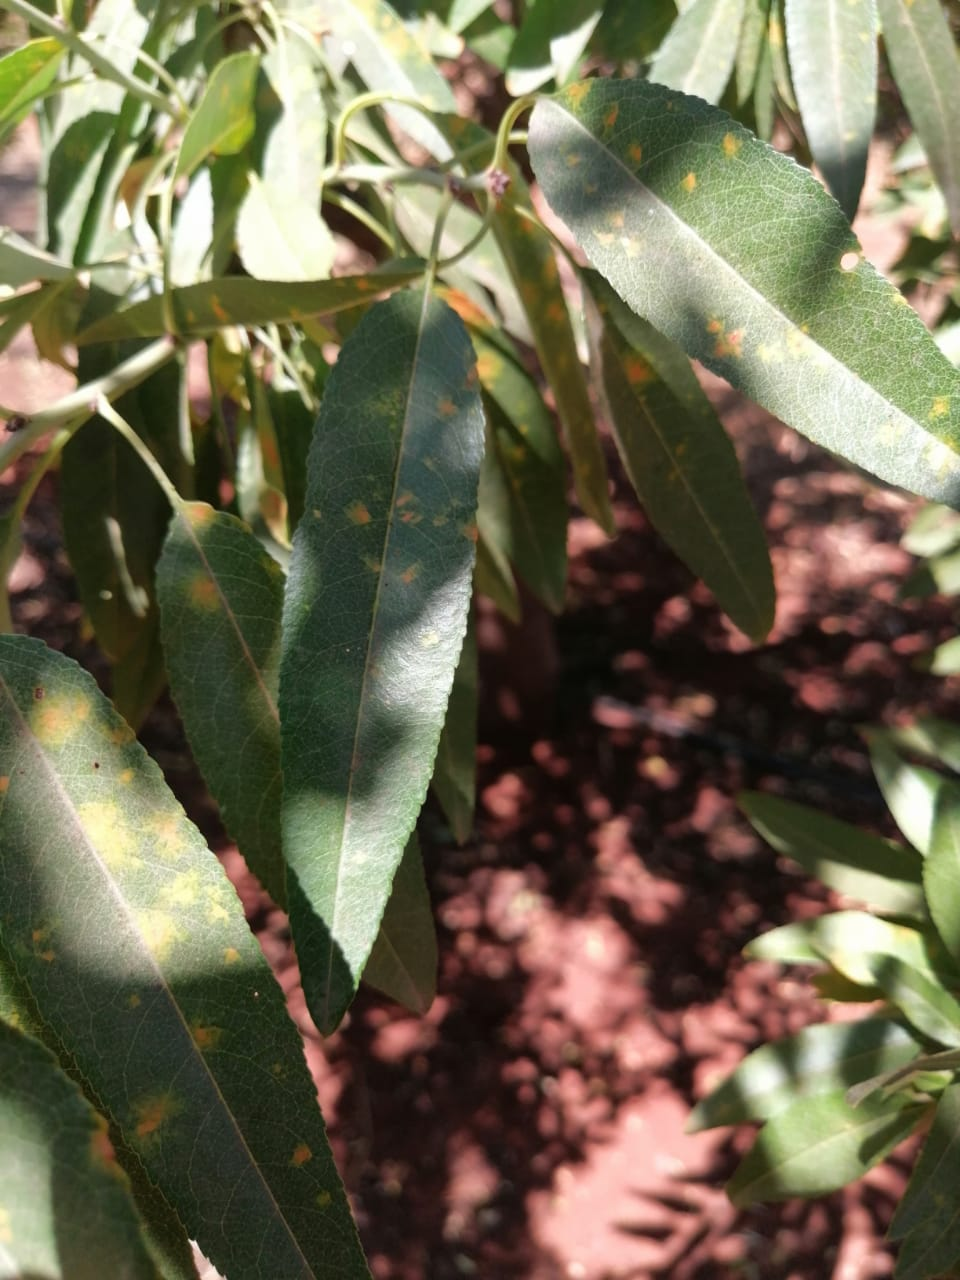polystigma: (3, 633, 365, 1280), (524, 72, 960, 502), (275, 284, 491, 1041), (156, 499, 441, 1015), (578, 272, 779, 641)
